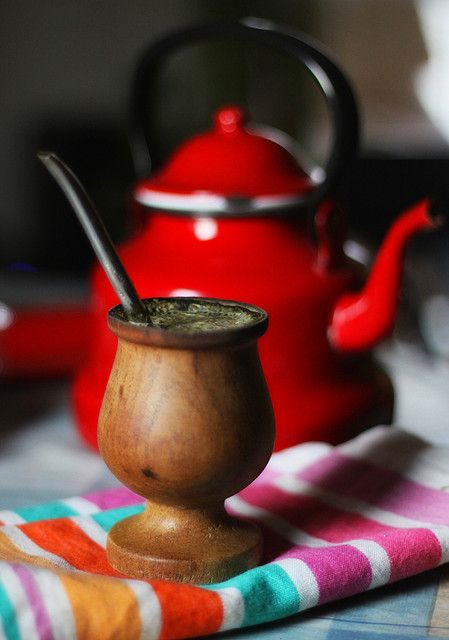madera: (93, 281, 278, 590)
mate: (95, 283, 280, 592)
